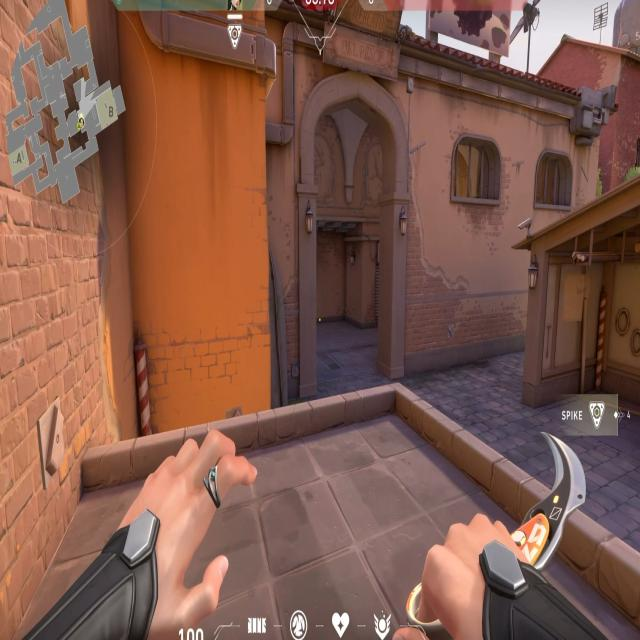B_Garage_Left: (525, 240, 640, 400)
Throwables: (449, 126, 505, 214), (528, 140, 577, 220)
